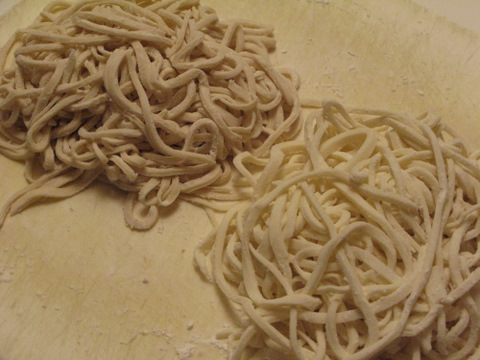Soba: (3, 1, 300, 207)
